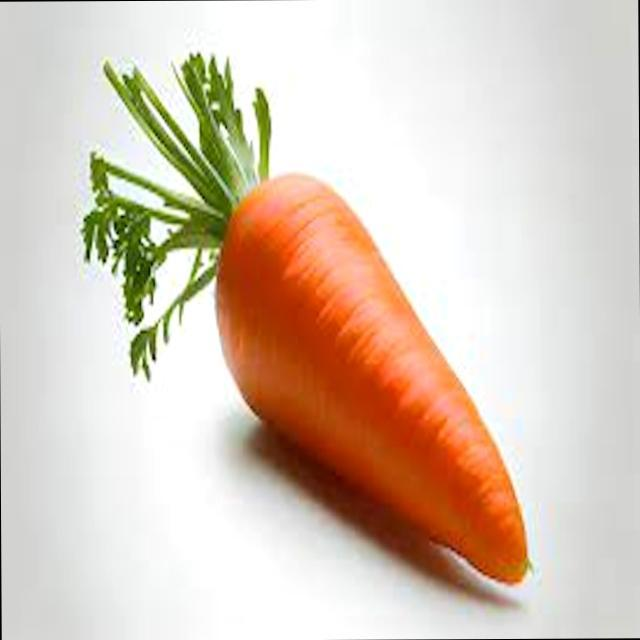carrot: (82, 54, 529, 584)
